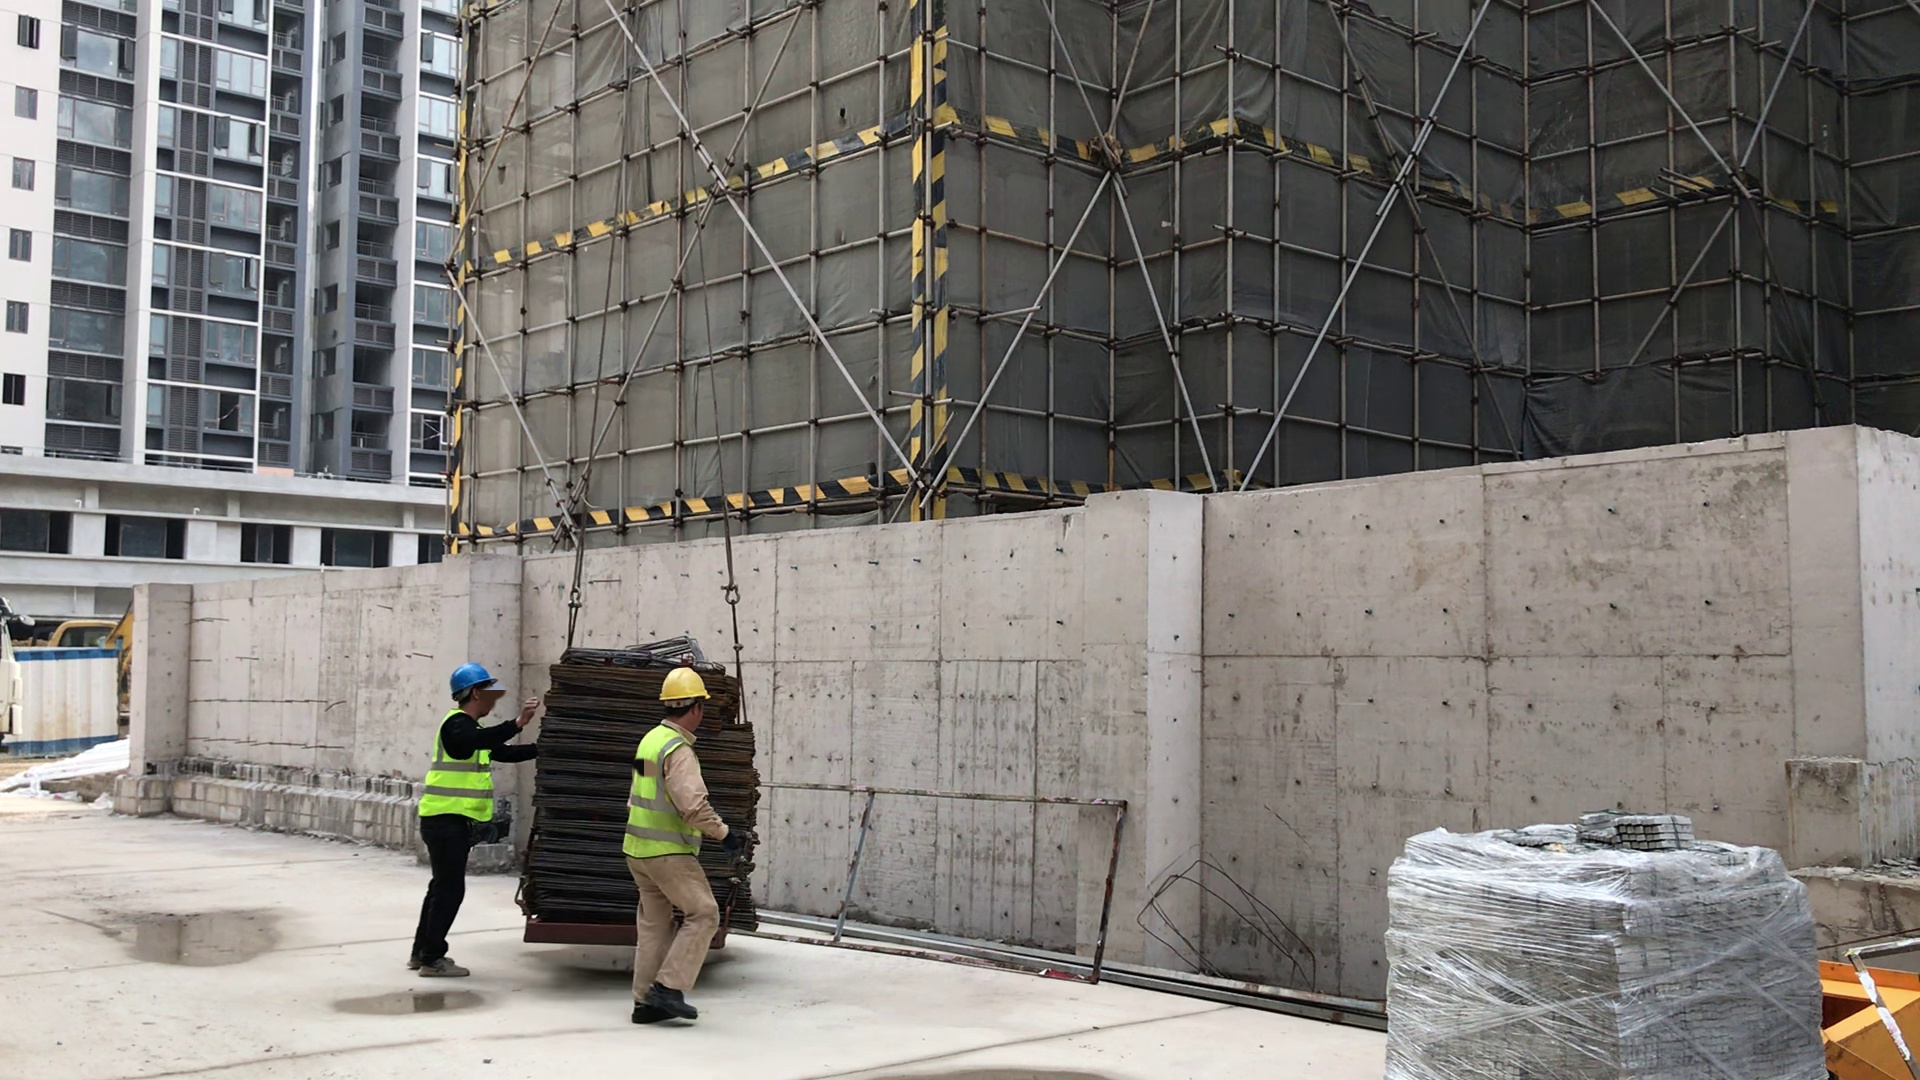helmet: (436, 664, 506, 708), (650, 666, 712, 711)
person: (621, 655, 725, 1031), (417, 652, 513, 993)
vest: (638, 729, 723, 871), (427, 722, 500, 825)
